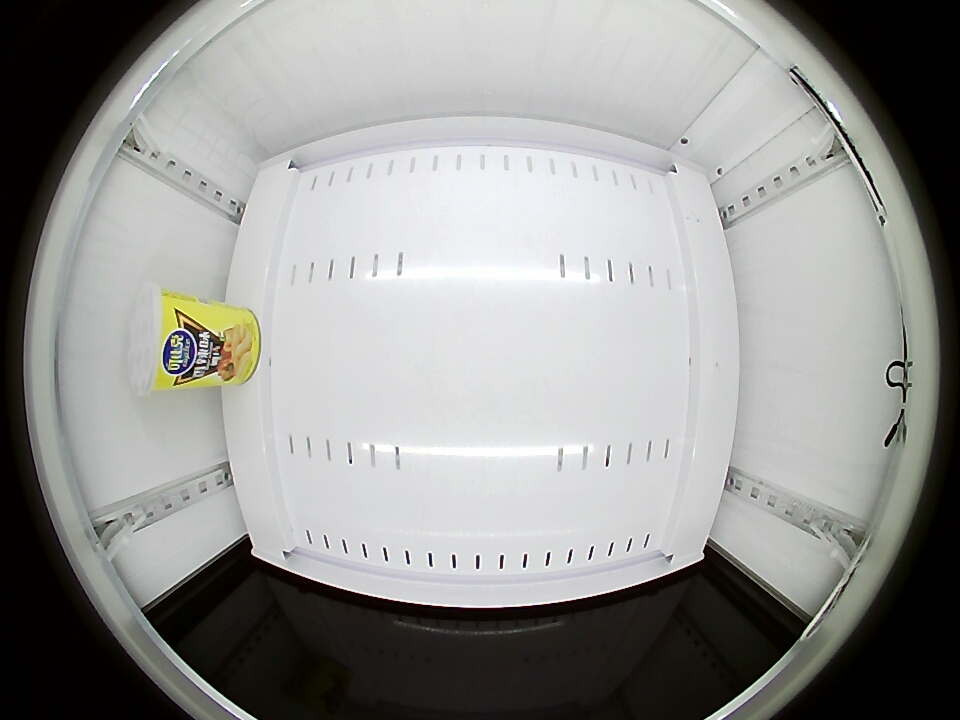kebike: (125, 283, 189, 396)
